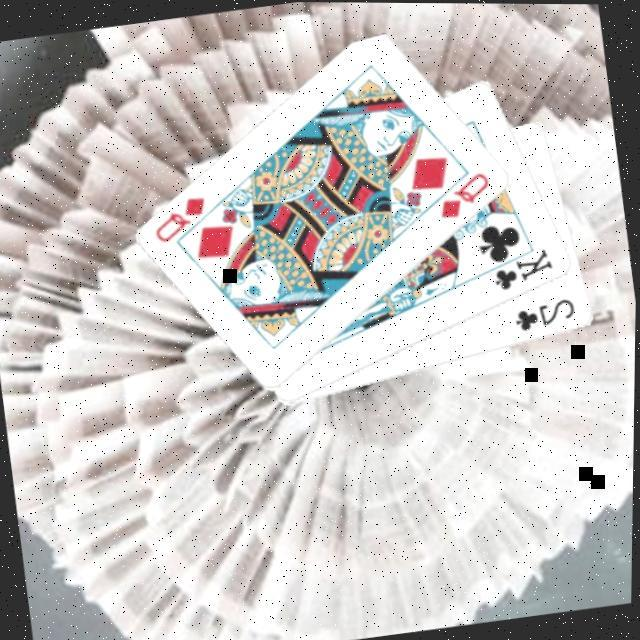2C: (509, 292, 580, 335)
KC: (475, 240, 558, 295)
QD: (146, 190, 214, 247), (431, 166, 496, 222)
